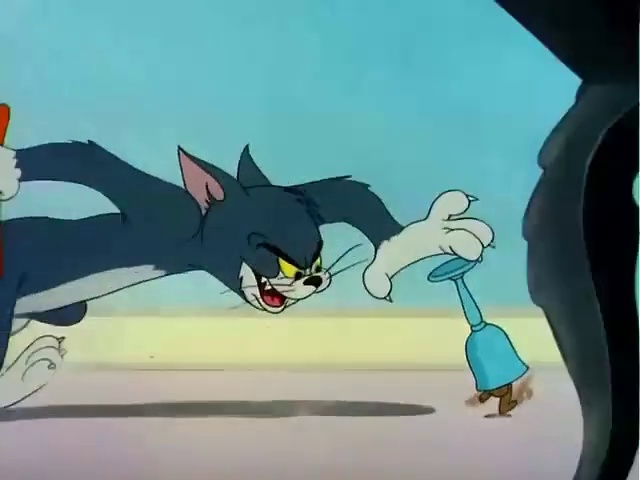tom: (2, 100, 494, 391)
